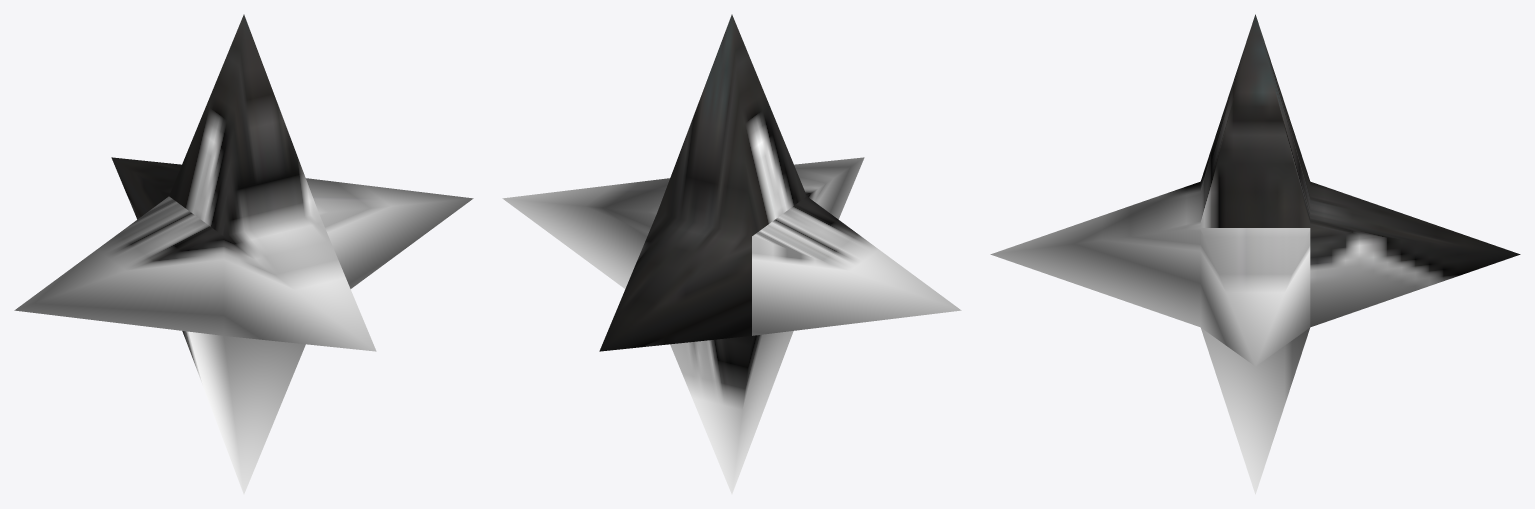
The model's file is Spike.fbx.
3 views of the same model, side by side, from view 1: azimuth 30°, elevation 25°; view 2: azimuth 150°, elevation 25°; view 3: azimuth 270°, elevation 25° (orthographic).
Parts seen in each view (by area): view 1: pCube1; view 2: pCube1; view 3: pCube1.
Boxes of the visible parts, x1,y1,x2,y2 form: pCube1: (14, 14, 473, 494); pCube1: (502, 14, 961, 494); pCube1: (990, 14, 1520, 494).
Size of the model in its own units: 4.84 by 4.84 by 4.84.
